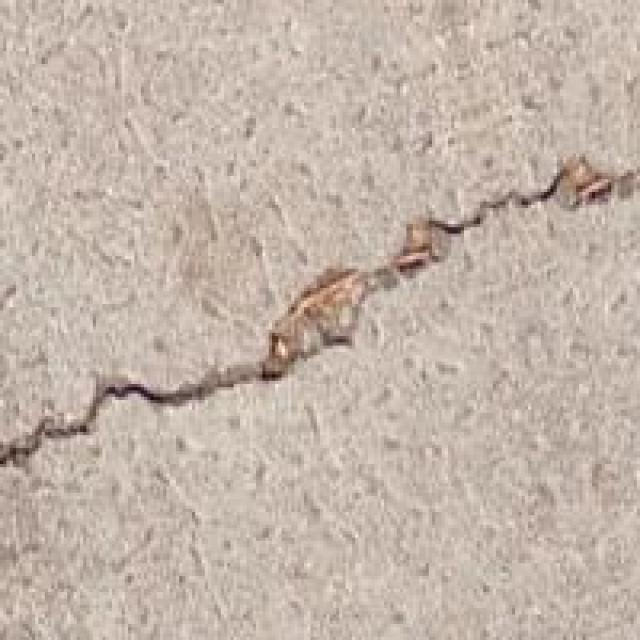Crack: (3, 163, 637, 480)
